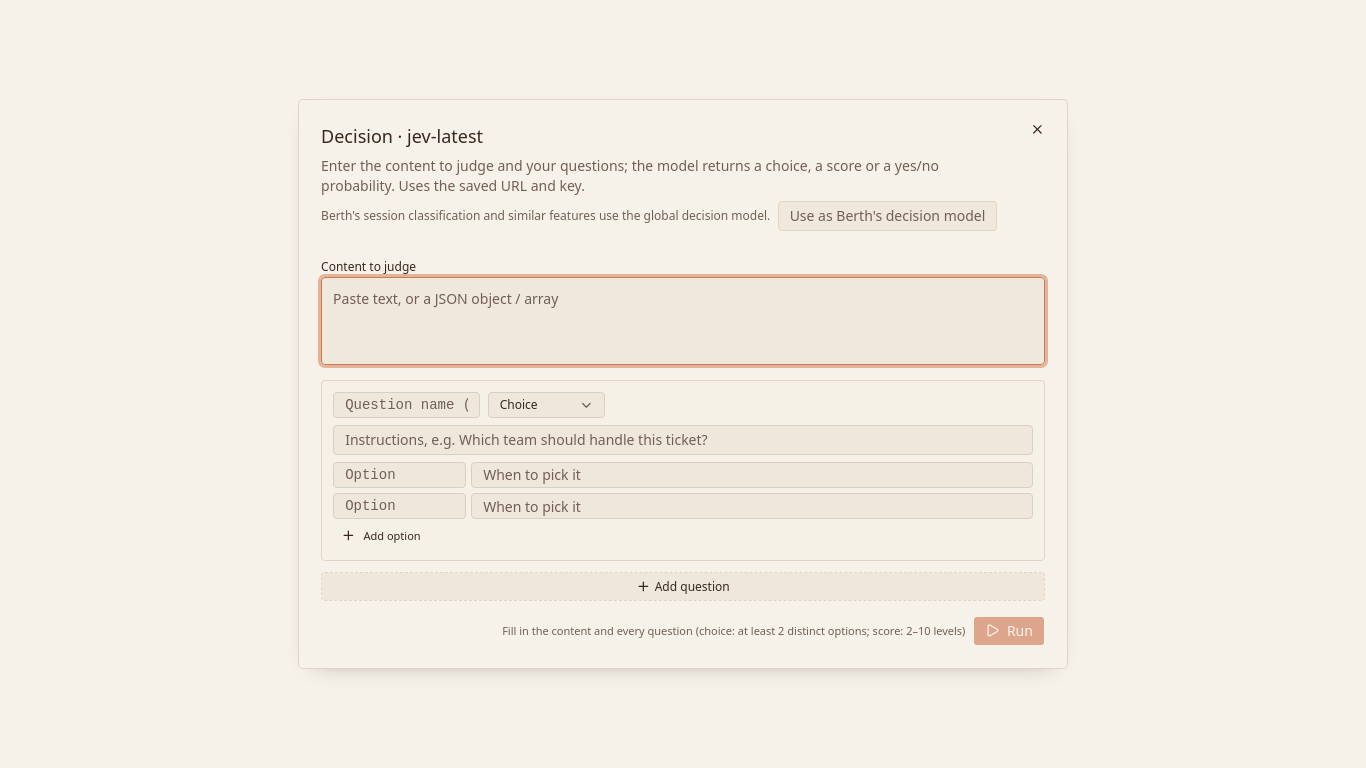
Scenario: DecisionPanel › sets this profile and model as Berth's decision model
This screenshot has width=1366, height=768.
Click the button "Use as Berth's decision model" at [888, 216], box [778,202,997,231]
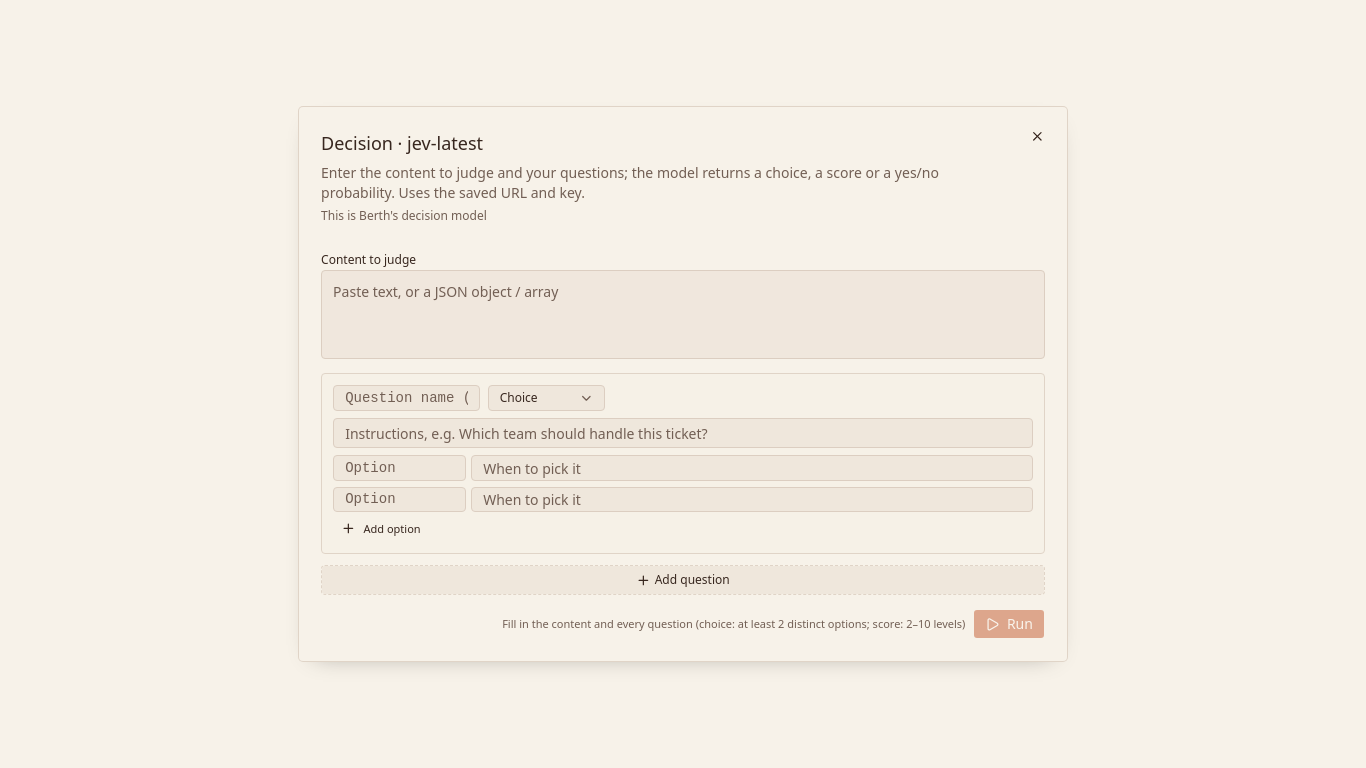
expect the text "This is Berth's decision model" is shown: met, box [321,208,487,224]
